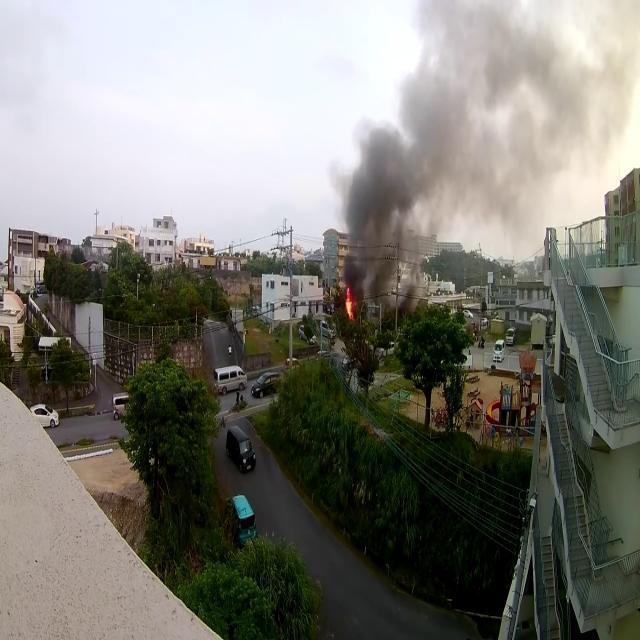Fire: (342, 278, 356, 328)
Smoke: (343, 0, 581, 270)
